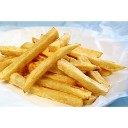frenchfries: (2, 27, 125, 105)
